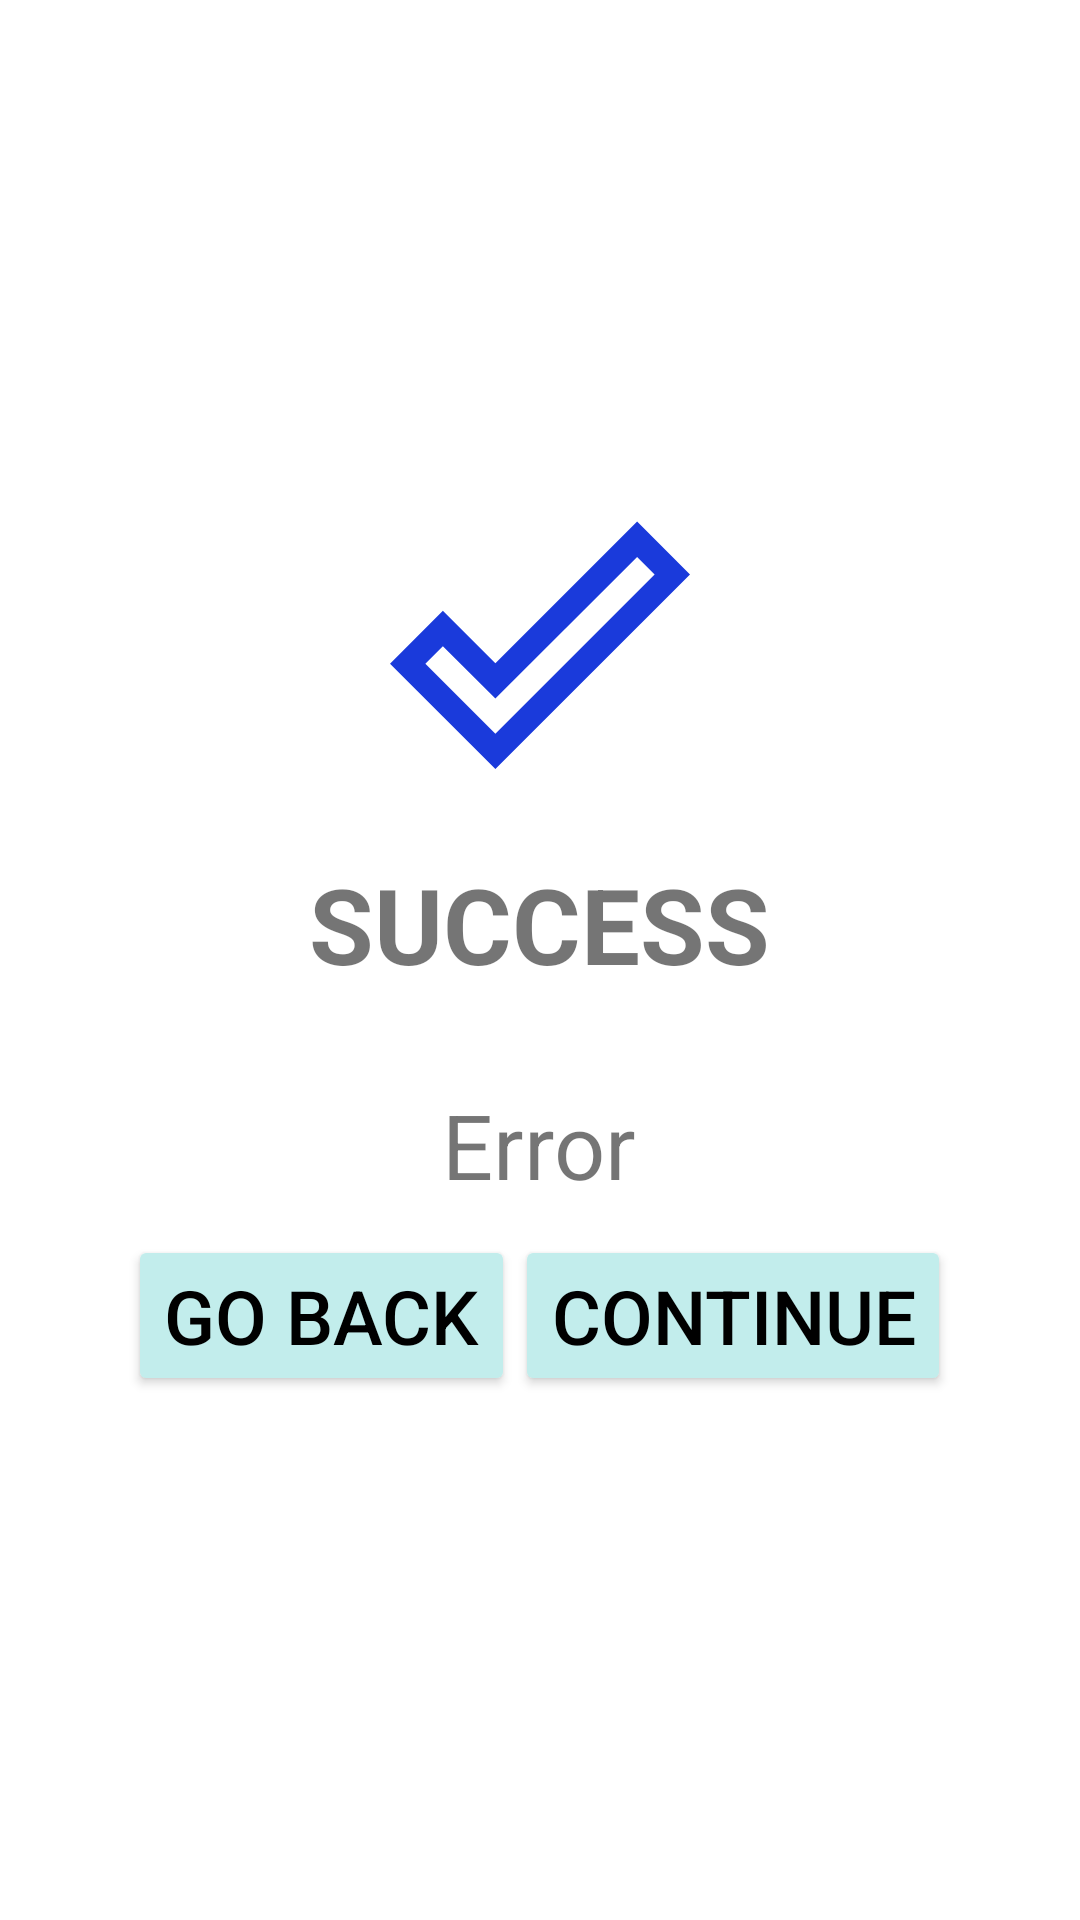

Locate icon controls on the screen. Image size 1080 x 1920, boxes as (x1, y1, x2, y2).
done: (390, 521, 690, 769)
